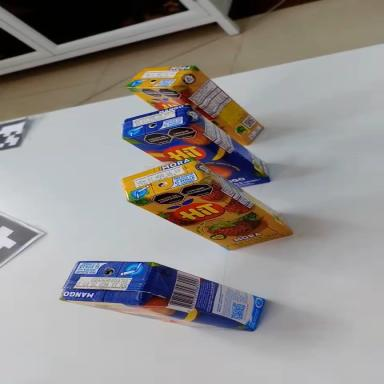HIT-MANGO: (116, 81, 280, 220), (60, 249, 268, 338)
HIT-MORA: (115, 133, 297, 285), (124, 42, 274, 159)
cara_F: (130, 155, 293, 280), (124, 99, 270, 222), (128, 65, 247, 167), (61, 287, 255, 344)
